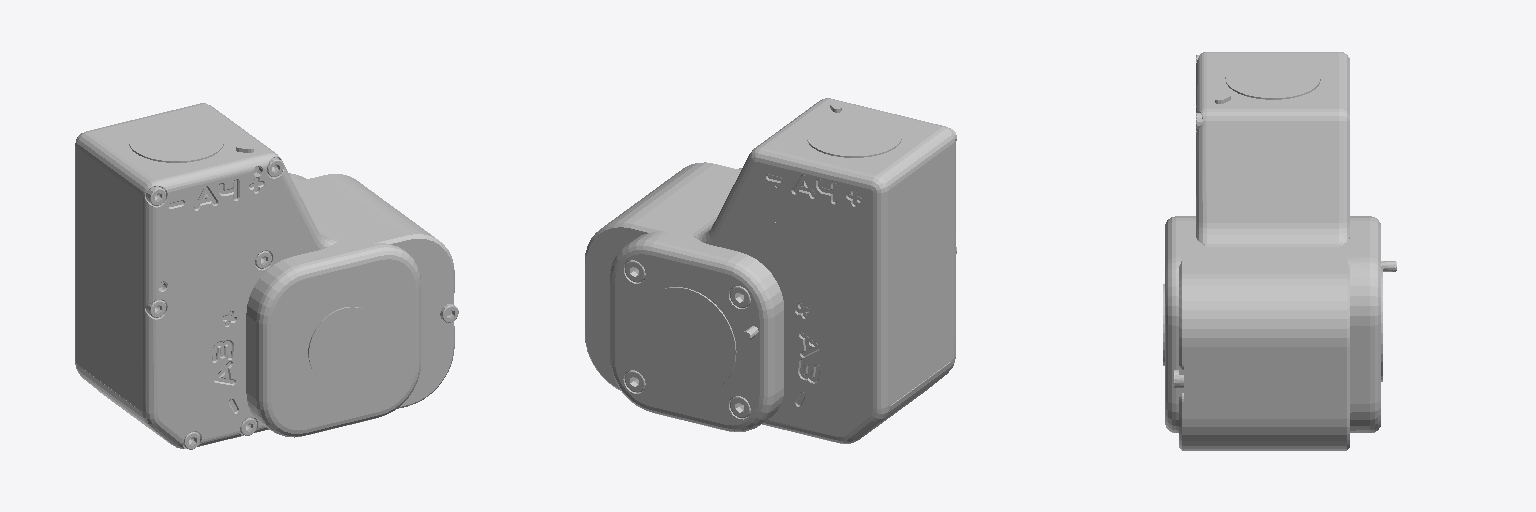
The model's file is meca500link_3.obj.
The picture shows the model from 3 angles: view 1: azimuth 30°, elevation 25°; view 2: azimuth 150°, elevation 25°; view 3: azimuth 270°, elevation 25°; orthographic projection.
Parts seen in each view (by area): view 1: Solid1; view 2: Solid1; view 3: Solid1.
Boxes of the visible parts, x1,y1,x2,y2 form: Solid1: [75, 103, 458, 449]; Solid1: [585, 98, 956, 443]; Solid1: [1163, 52, 1396, 450].
Size of the model in its own units: 0.1008 by 0.0897 by 0.068.